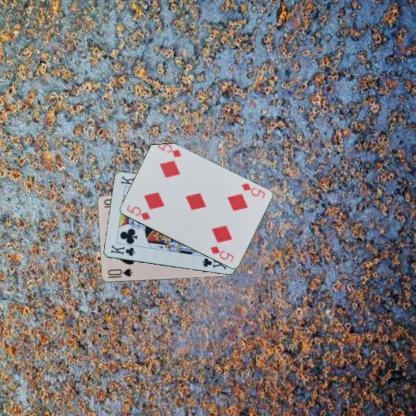10s: (105, 266, 134, 279)
5d: (124, 202, 151, 221), (239, 180, 266, 199)
Kc: (108, 242, 136, 258)
